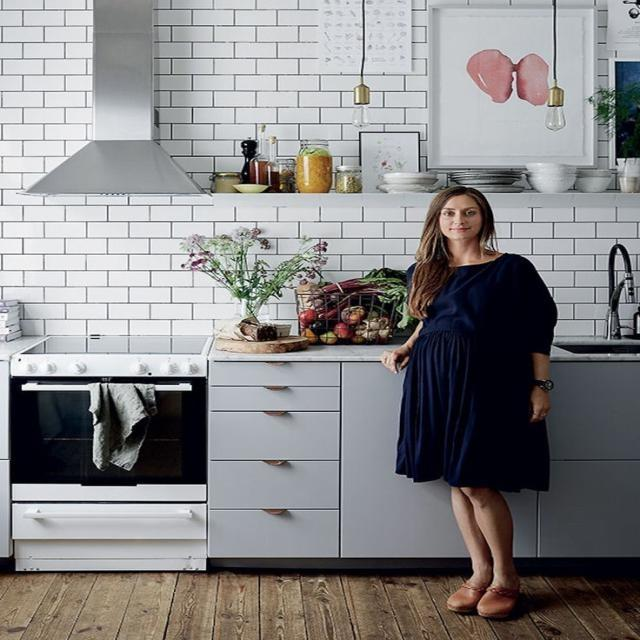obstacle: (210, 336, 640, 574)
person: (380, 185, 558, 620)
